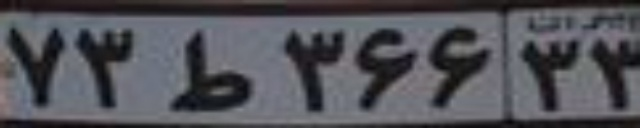3: (73, 26, 138, 109), (280, 28, 342, 111), (517, 40, 581, 110), (591, 39, 638, 109)
6: (351, 28, 419, 110), (425, 27, 491, 108)
7: (4, 25, 67, 108)
taa: (163, 28, 252, 113)
